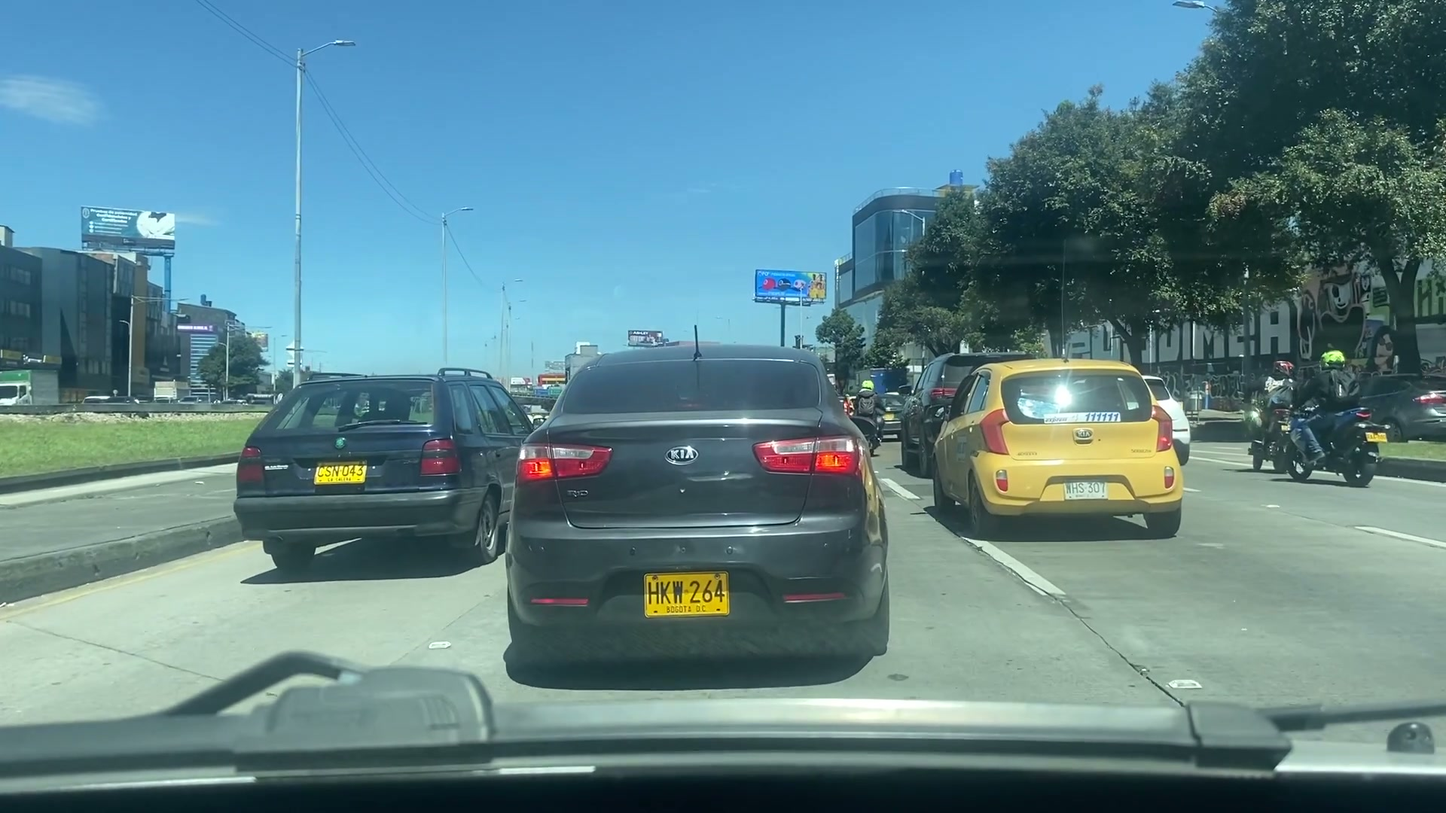car: (516, 342, 892, 671), (235, 370, 537, 573), (932, 360, 1180, 541), (894, 352, 1038, 468)
motorcycle: (1280, 404, 1394, 489), (1242, 404, 1296, 472)
person: (1299, 351, 1372, 467), (1254, 353, 1298, 445), (855, 376, 880, 436)
